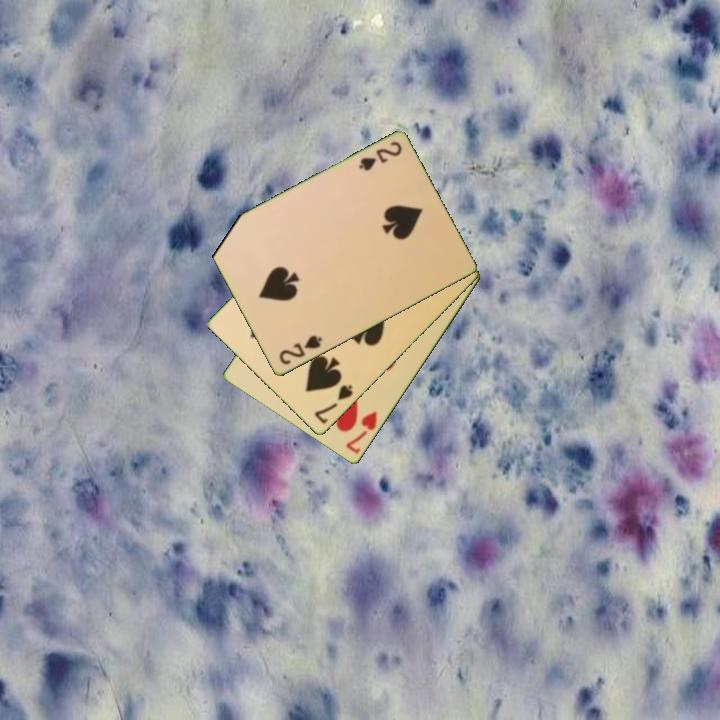2s: (355, 138, 405, 174), (276, 332, 325, 368)
7h: (342, 408, 380, 457)
7s: (311, 381, 356, 428)
